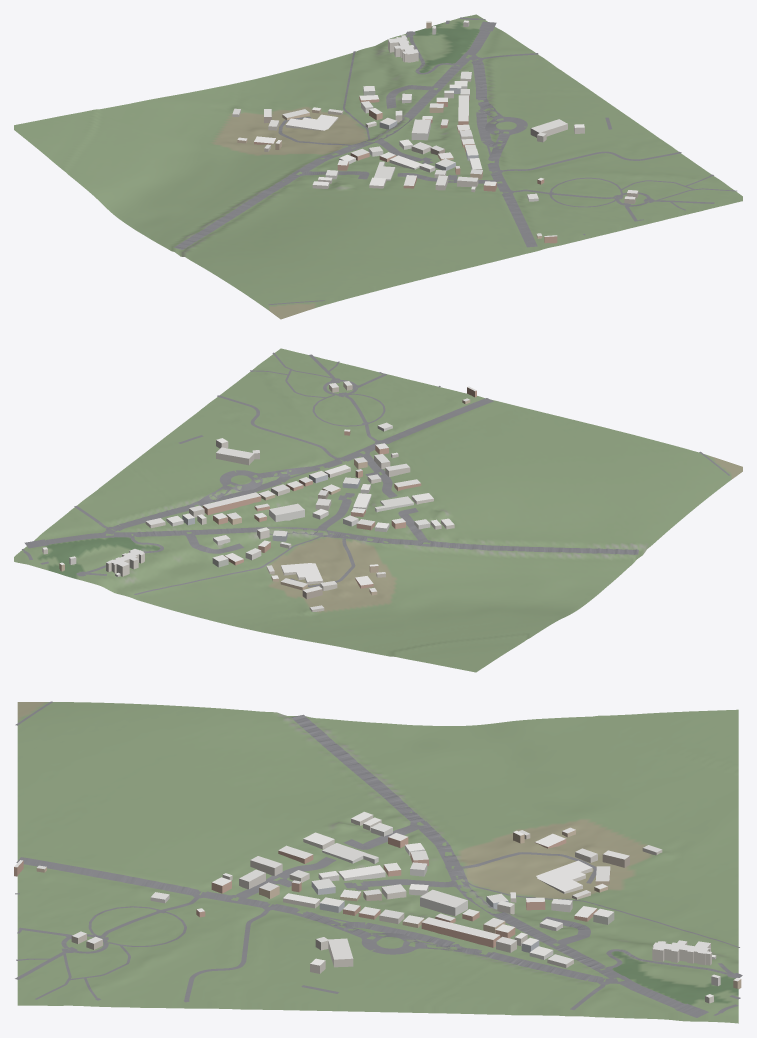
3 renders of one model, top to bottom at view 1: azimuth 30°, elevation 25°; view 2: azimuth 150°, elevation 25°; view 3: azimuth 270°, elevation 25°, orthographic. The views are drawn at different scales.
Visible parts, largest first — view 1: prim0, prim2, prim1; view 2: prim0, prim1, prim2; view 3: prim0, prim1, prim2.
Boxes of the visible parts, bbox=[...] form: prim0: bbox=[14, 14, 742, 319]; prim2: bbox=[174, 17, 736, 305]; prim1: bbox=[232, 20, 638, 243]; prim0: bbox=[14, 348, 742, 672]; prim1: bbox=[42, 381, 476, 611]; prim2: bbox=[22, 352, 729, 594]; prim0: bbox=[17, 702, 738, 1023]; prim1: bbox=[14, 811, 741, 1003]; prim2: bbox=[15, 701, 742, 1017].
Bounding box in the file's own units: 519 × 37.66 × 518.
